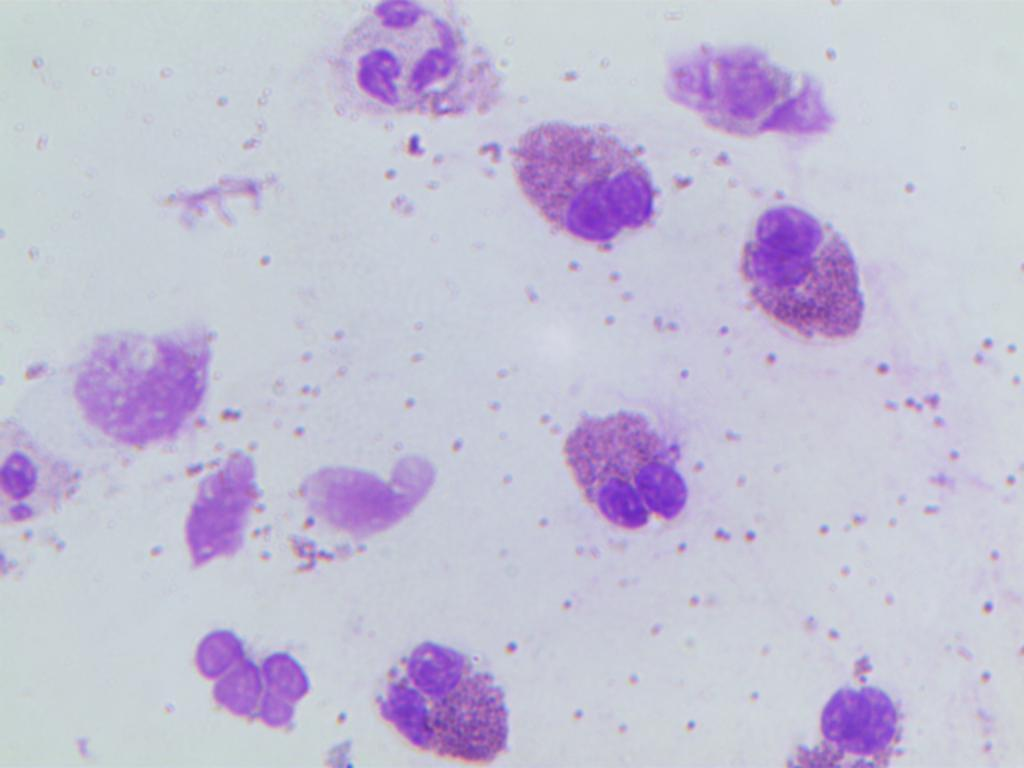artifact: (658, 22, 860, 150), (67, 331, 219, 445), (295, 441, 437, 553), (181, 459, 263, 564)
eosinophil: (498, 110, 666, 268), (719, 186, 887, 344), (536, 391, 704, 549), (373, 603, 541, 761), (801, 679, 899, 768)
neutrophil: (178, 609, 346, 767), (332, 0, 502, 122), (0, 409, 81, 557)
